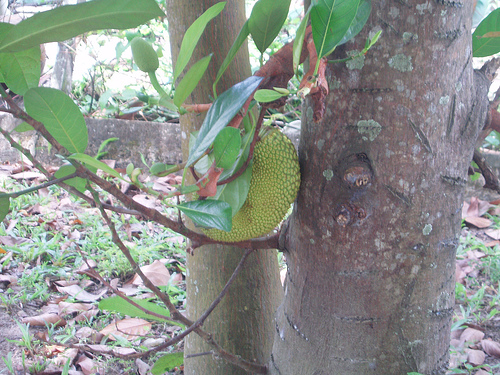jackfruit: (189, 121, 300, 241)
